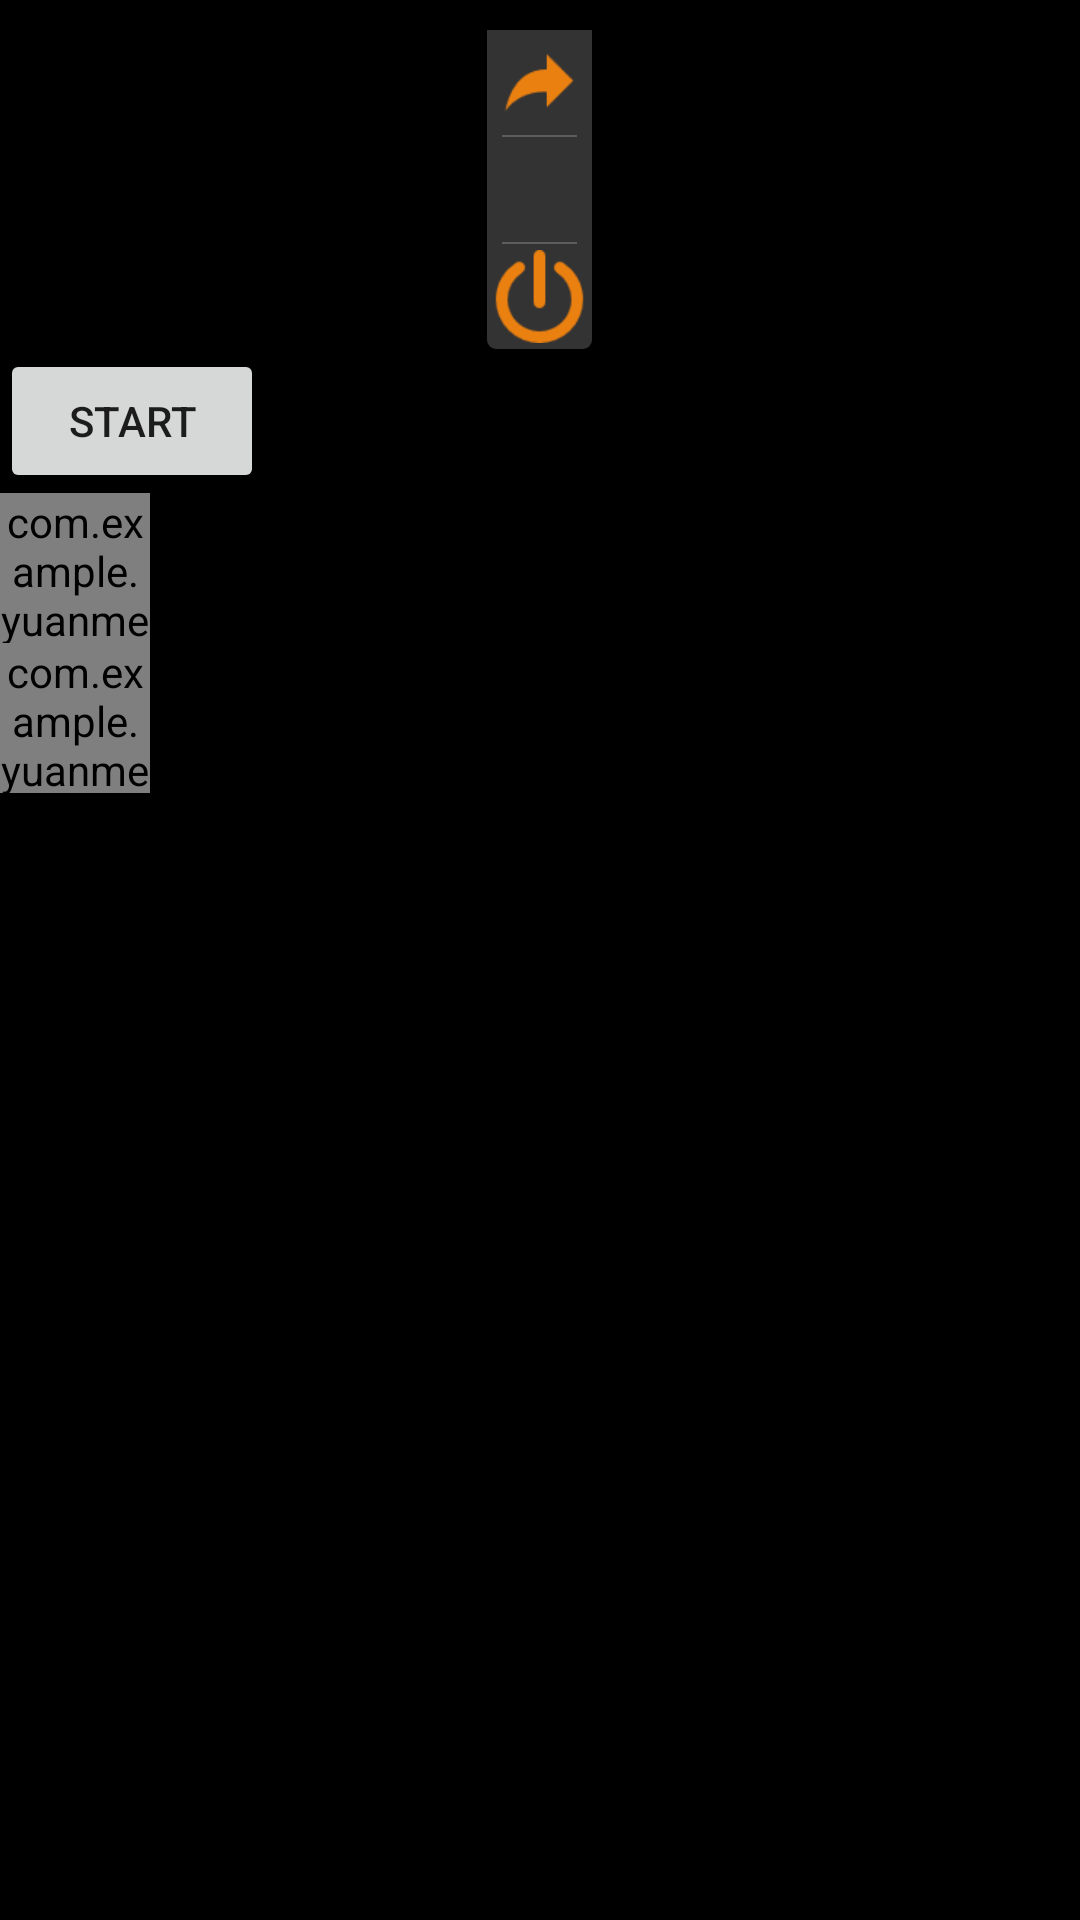

Screen size 1080px x 1920px. Icon name, then its box in pixels as [x1=x1, y1=y1, x2=x2, y2=y2]:
share: [x1=487, y1=30, x2=592, y2=135]
